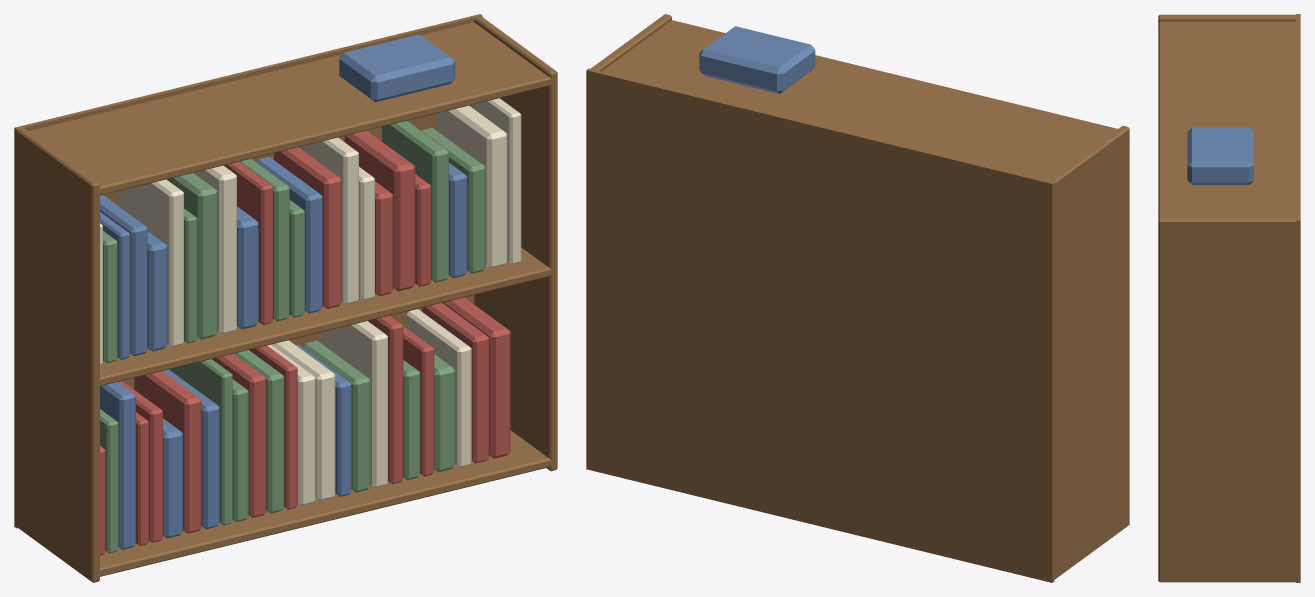
File: bookshelf_low.glb
3 renders of one model, left to right at view 1: azimuth 30°, elevation 25°; view 2: azimuth 150°, elevation 25°; view 3: azimuth 270°, elevation 25°, orthographic. The views are drawn at different scales.
Parts seen in each view (by area): view 1: bookshelf_low; view 2: bookshelf_low; view 3: bookshelf_low.
Part boxes in pixels (<box>): bookshelf_low: <box>14,14,557,582</box>; bookshelf_low: <box>586,14,1129,582</box>; bookshelf_low: <box>1158,14,1300,582</box>.
Bounding box in the file's own units: 1.1 × 0.95 × 0.32.
